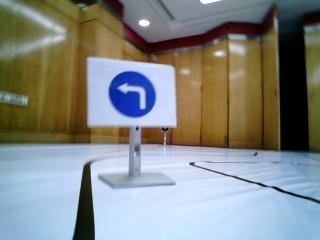left: (88, 57, 170, 122)
